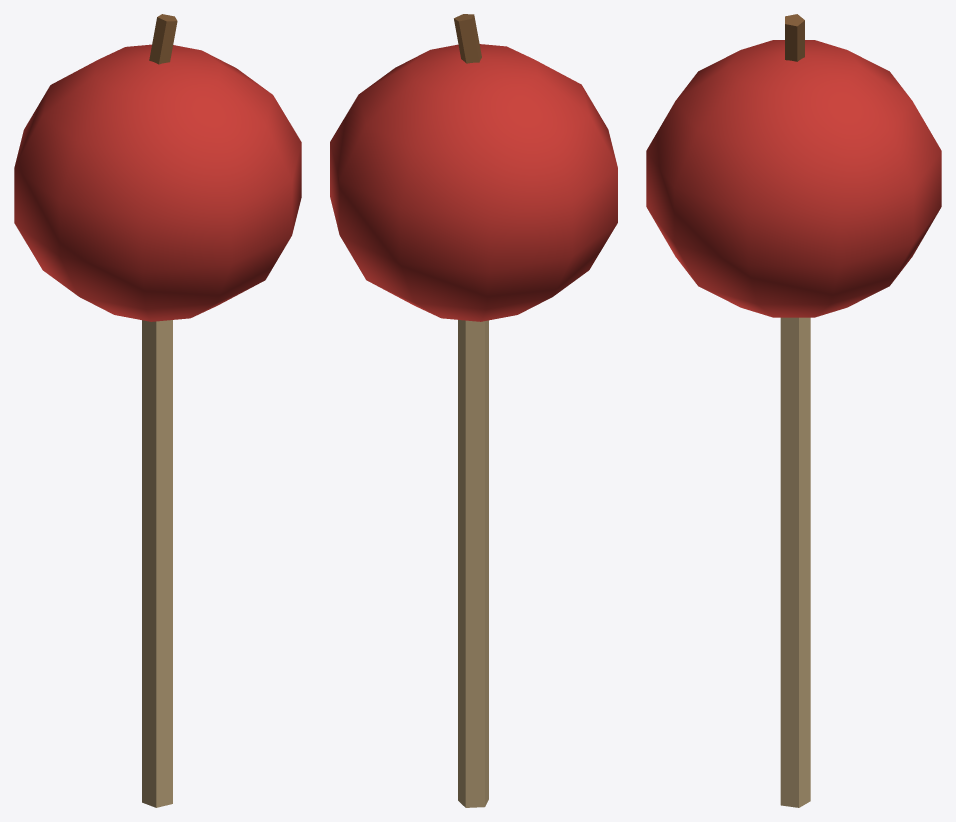
The model's file is item_ringoame.glb.
The picture shows the model from 3 angles, left to right: view 1: azimuth 30°, elevation 25°; view 2: azimuth 150°, elevation 25°; view 3: azimuth 270°, elevation 25°; orthographic projection.
Visible parts, largest first — view 1: item_ringoame; view 2: item_ringoame; view 3: item_ringoame.
Part boxes in pixels (bbox=[...]): item_ringoame: bbox=[14, 14, 301, 807]; item_ringoame: bbox=[330, 14, 617, 807]; item_ringoame: bbox=[646, 14, 941, 807].
Bounding box in the file's own units: 0.102 × 0.3153 × 0.1072.
